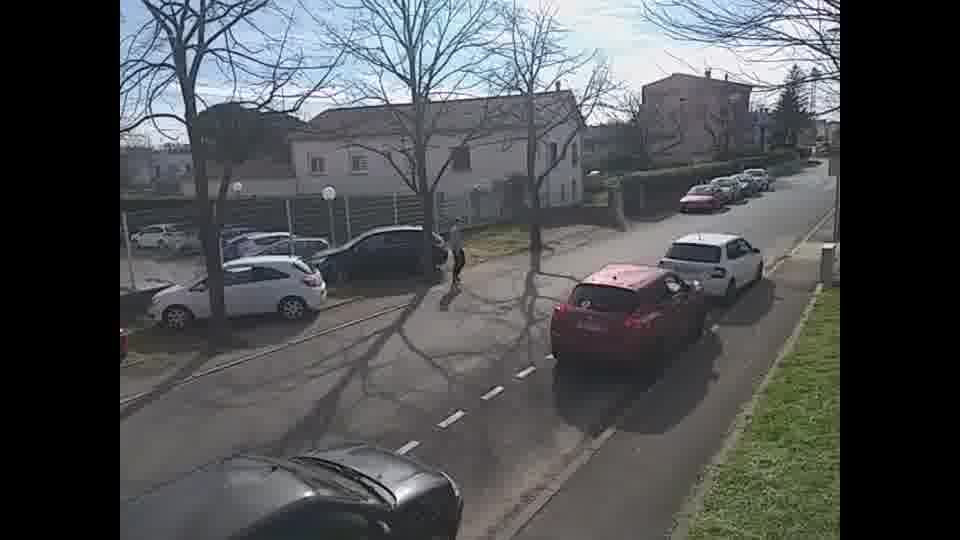jugador: (442, 211, 472, 288)
